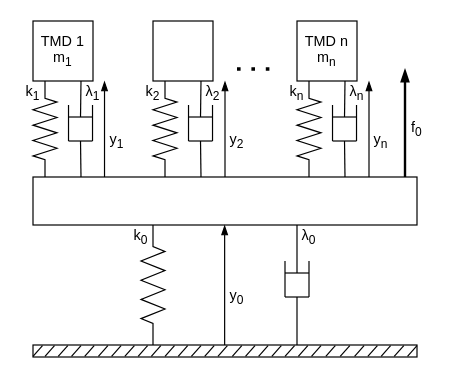
Some shapes in this 449 by 379 pixel diagram are drawn without their labels. Each missing label, with the centre of its shape:
Floor m 0: (224,200)
TMD 2 m 2: (182,50)
